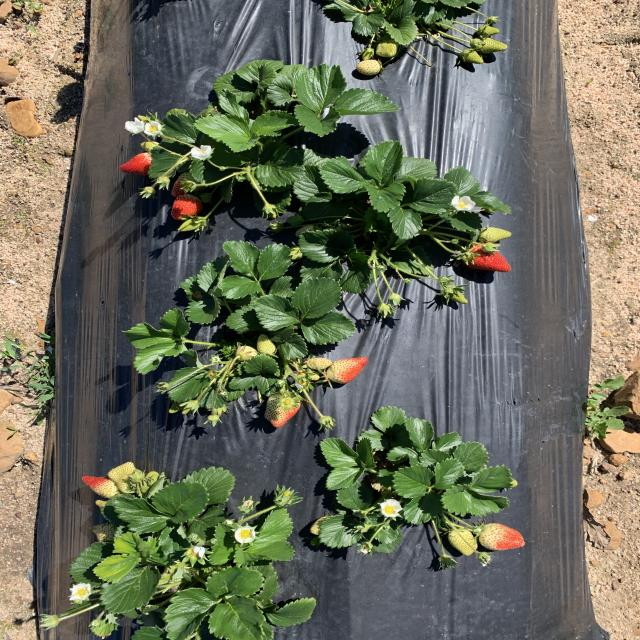unripe: (460, 244, 516, 273), (168, 192, 208, 223), (117, 151, 163, 176)
